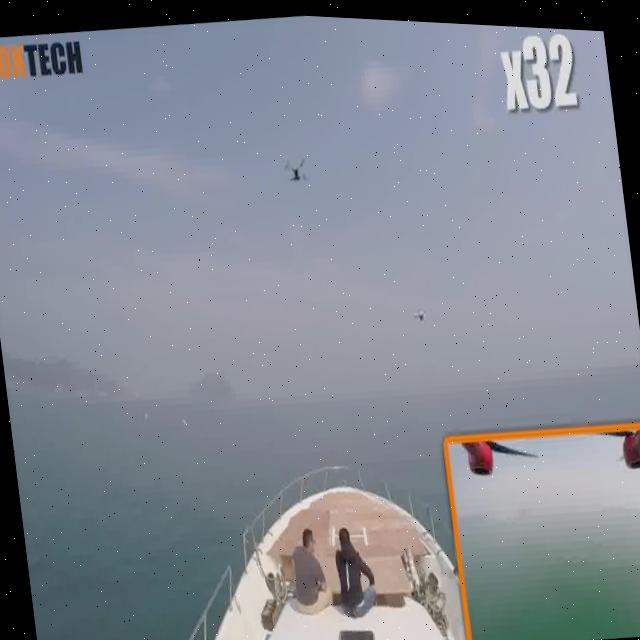drone: (270, 122, 316, 204)
